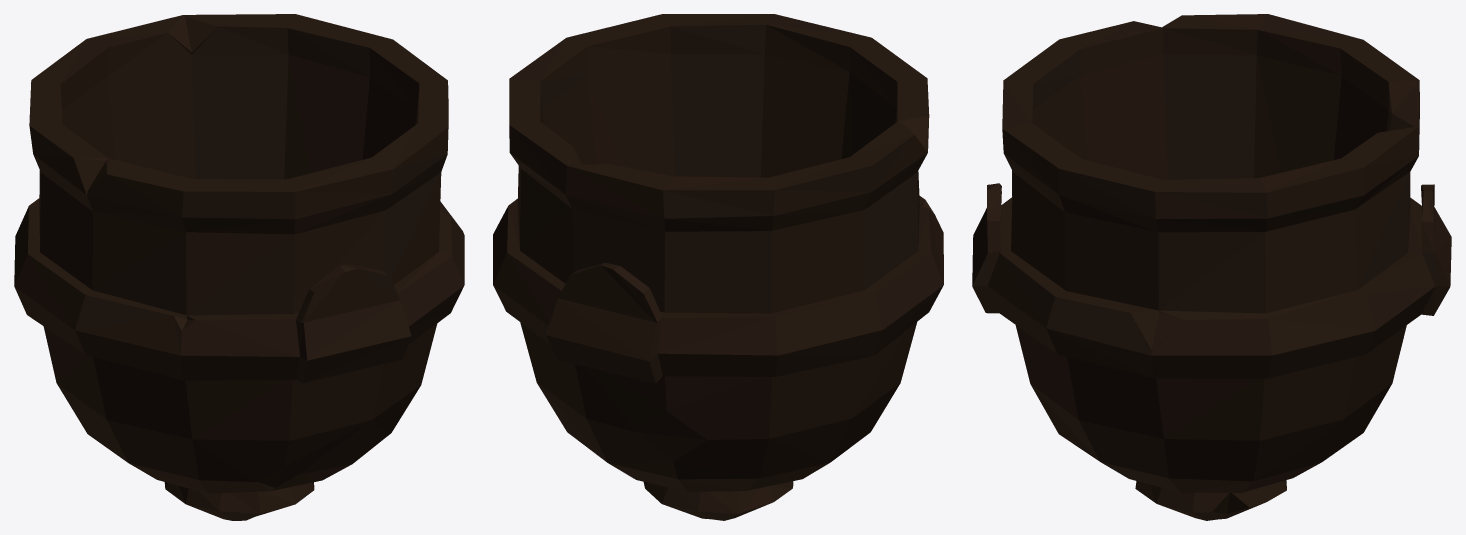
Rendered from SFFA_Forge_Prop_003.fbx.
The picture shows the model from 3 angles, left to right: view 1: azimuth 30°, elevation 25°; view 2: azimuth 150°, elevation 25°; view 3: azimuth 270°, elevation 25°; orthographic projection.
Parts seen in each view (by area): view 1: SFFA_Forge_Prop_003; view 2: SFFA_Forge_Prop_003; view 3: SFFA_Forge_Prop_003.
Boxes of the visible parts, left/top/right/bottom form: SFFA_Forge_Prop_003: left=14, top=14, right=464, bottom=520; SFFA_Forge_Prop_003: left=493, top=14, right=943, bottom=520; SFFA_Forge_Prop_003: left=972, top=14, right=1451, bottom=520.
Bounding box in the file's own units: 81.4 × 82.26 × 87.01.
